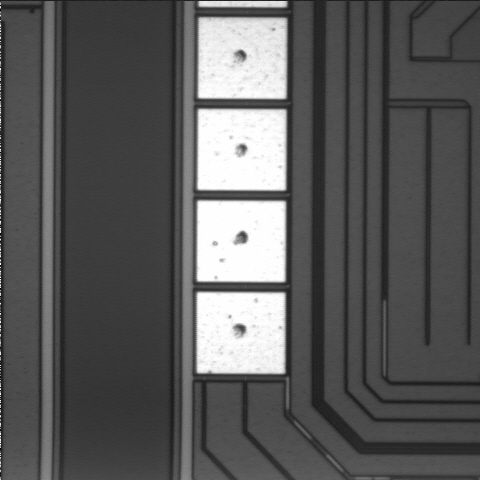pad: (197, 109, 286, 191), (197, 200, 286, 282), (197, 292, 285, 374), (198, 18, 287, 99)
